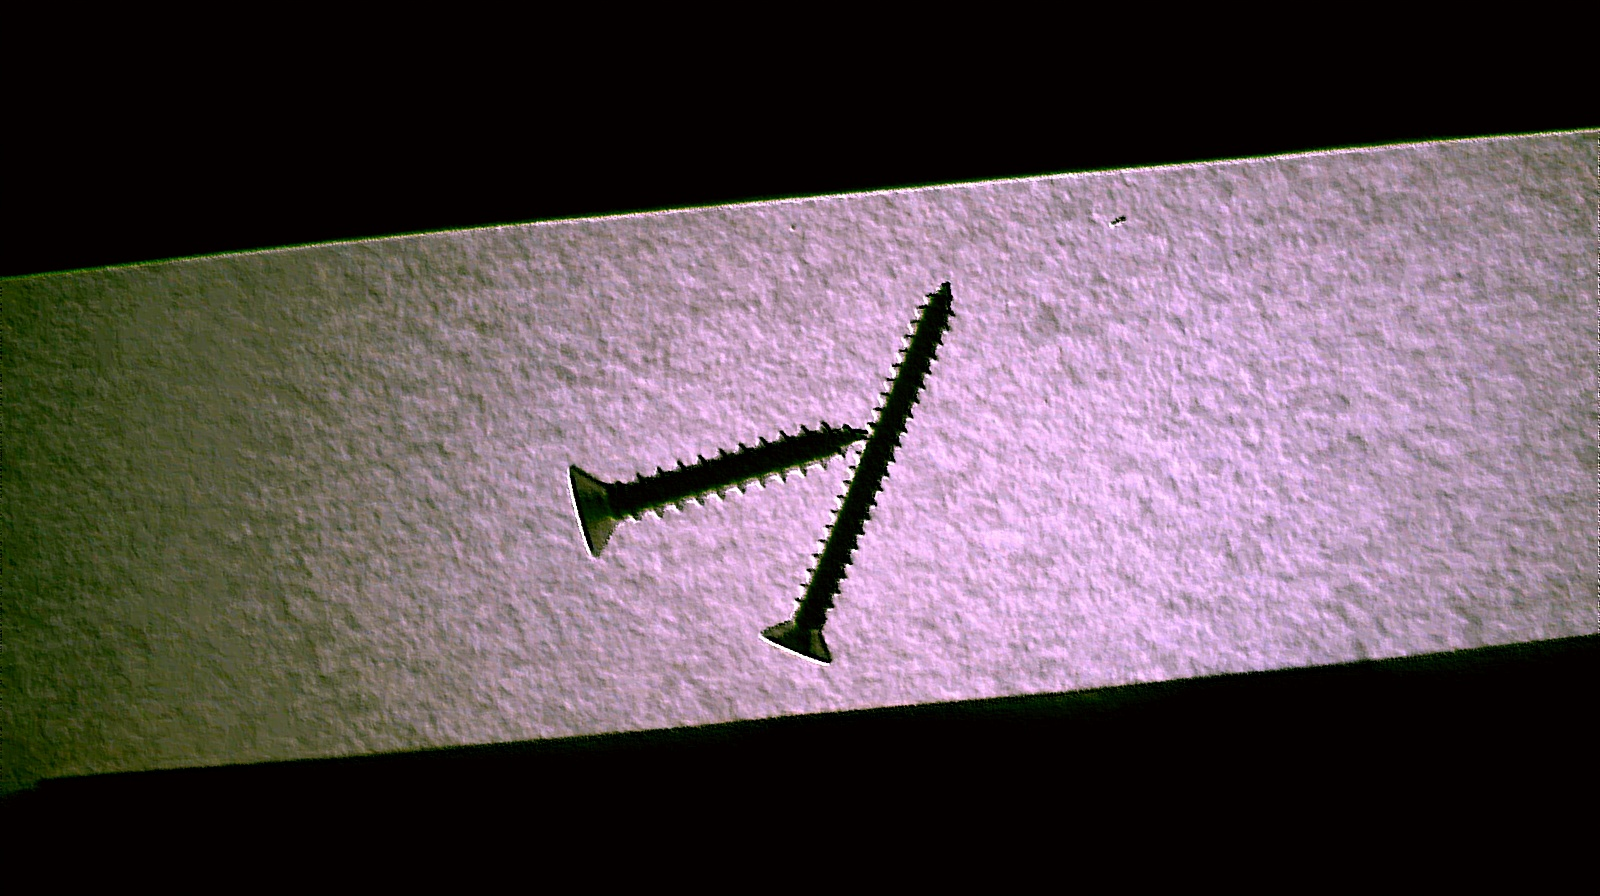S001: (559, 414, 865, 561)
S002: (755, 275, 955, 666)
